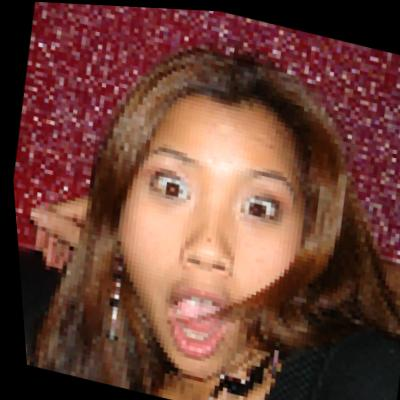surprise: (84, 70, 339, 394)
